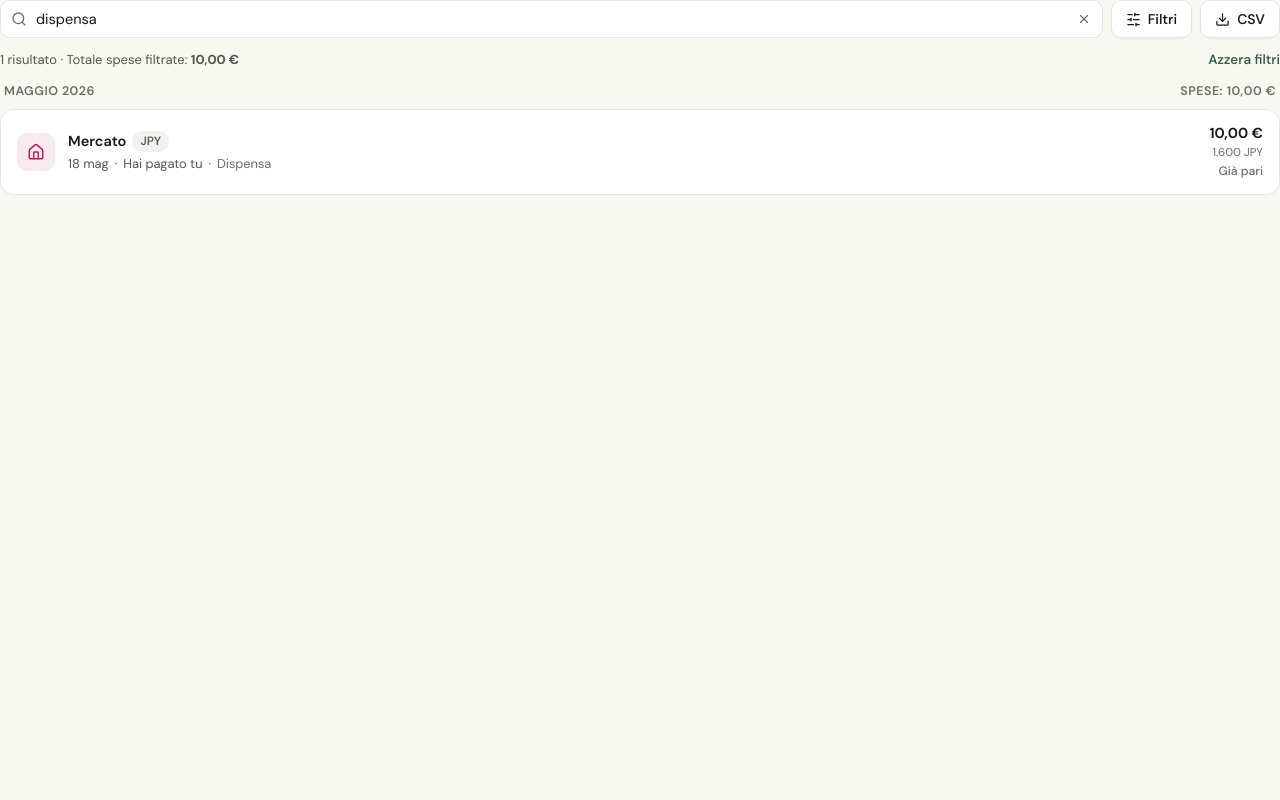
nome nuovo anche in ricerca, dettaglio, filtri, CSV, Insights e prossima ricorrenza; lo storico non cambia
Click the button "Filtri": x=1151, y=19 [1111,0,1192,38]
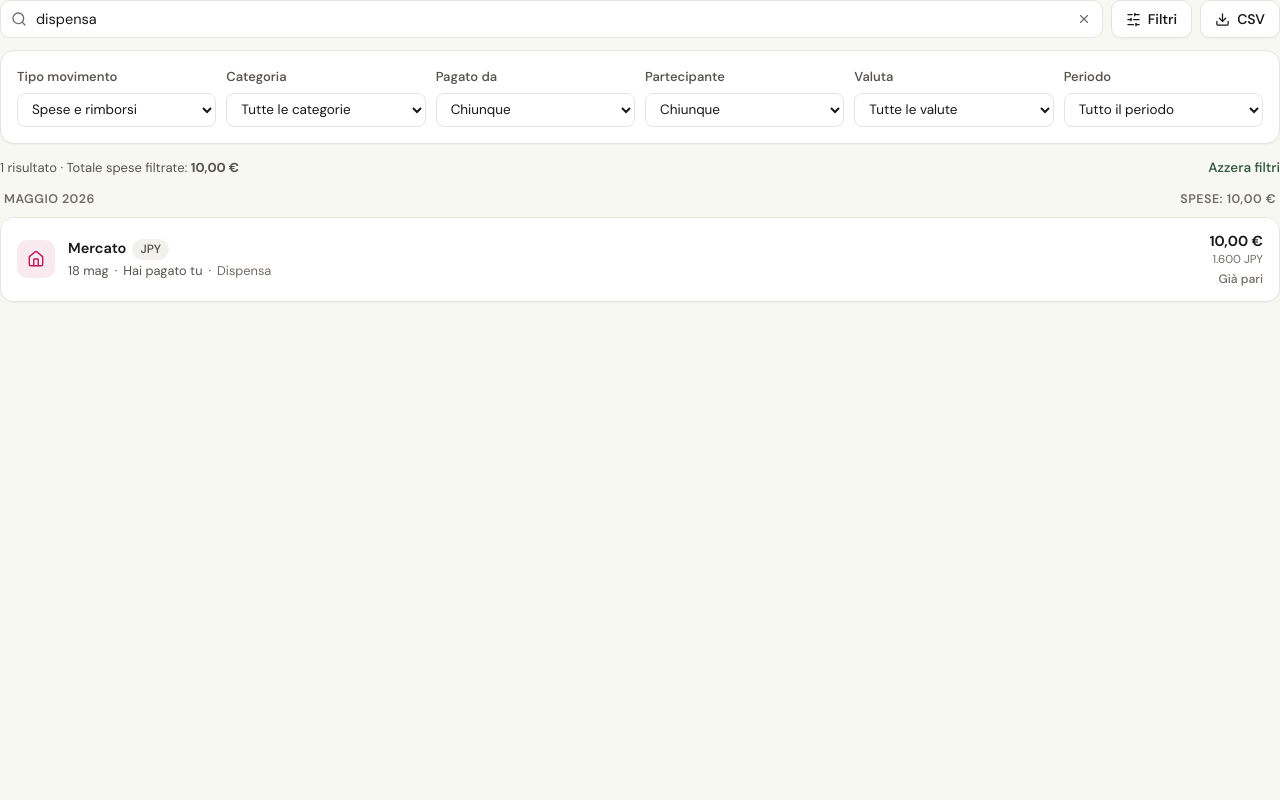
Click the button "Mercato": x=36, y=259 [1,218,1279,301]
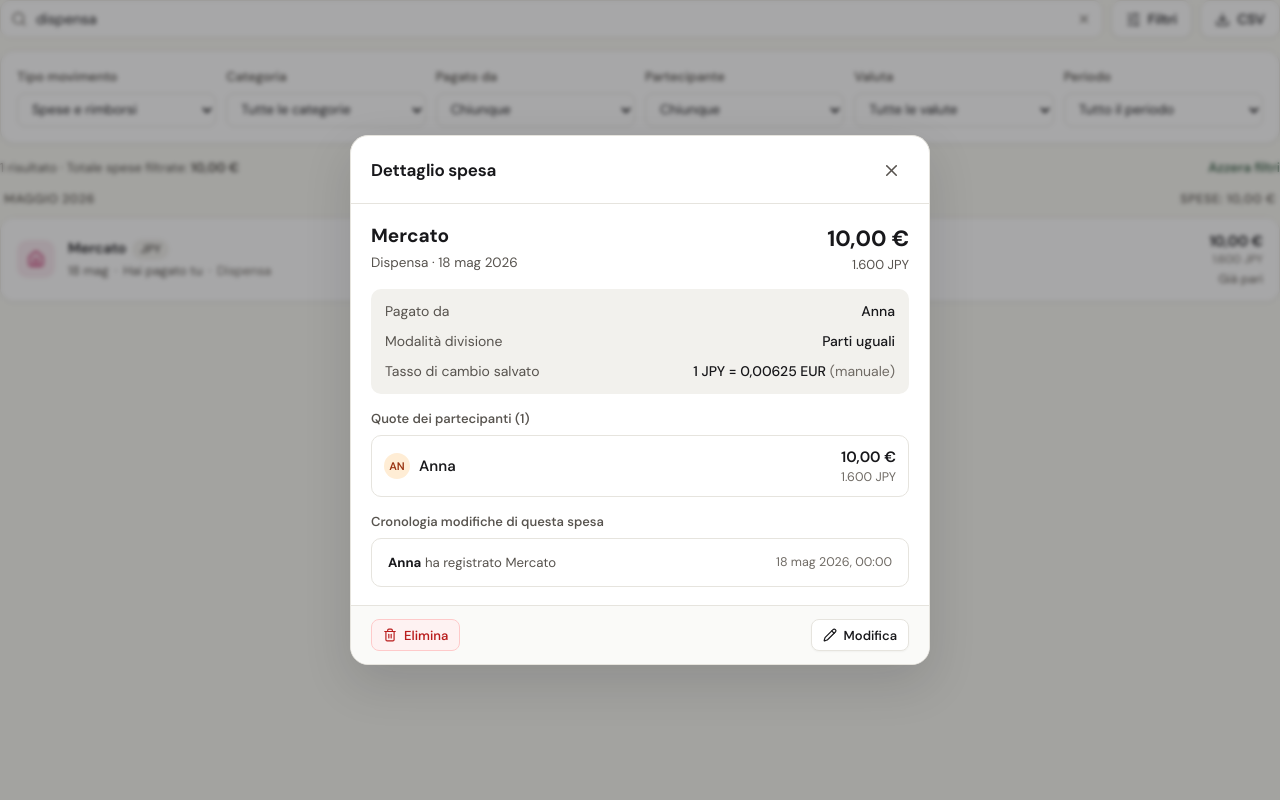
Expected: the text "Dispensa · 18 mag 2026" is shown, [371,253,518,273]
